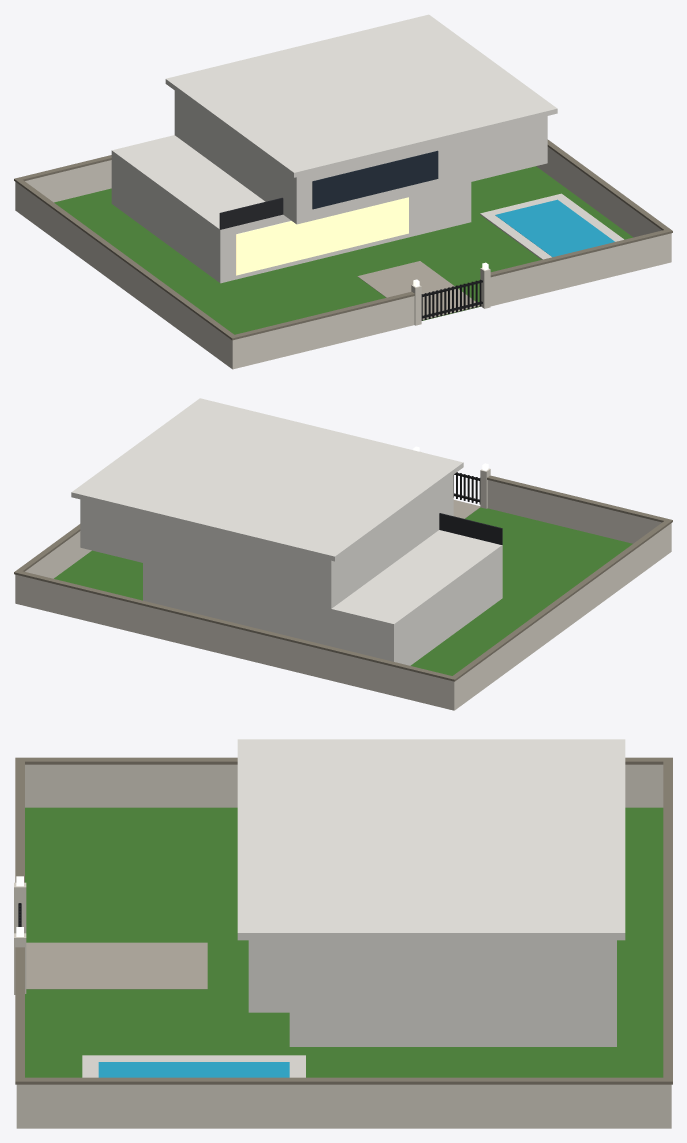
File: bld_lx_villa_a.glb
The picture shows the model from 3 angles, top to bottom: view 1: azimuth 30°, elevation 25°; view 2: azimuth 150°, elevation 25°; view 3: azimuth 270°, elevation 25°; orthographic projection. The views are drawn at different scales.
Visible parts, largest first — view 1: bld_lx_villa_a; view 2: bld_lx_villa_a; view 3: bld_lx_villa_a.
Boxes of the visible parts, left/top/right/bottom form: bld_lx_villa_a: left=14, top=14, right=672, bottom=369; bld_lx_villa_a: left=14, top=398, right=672, bottom=710; bld_lx_villa_a: left=14, top=739, right=672, bottom=1128.
Size of what is drawn, in the model's own units: 28.1 by 6.7 by 24.15.
